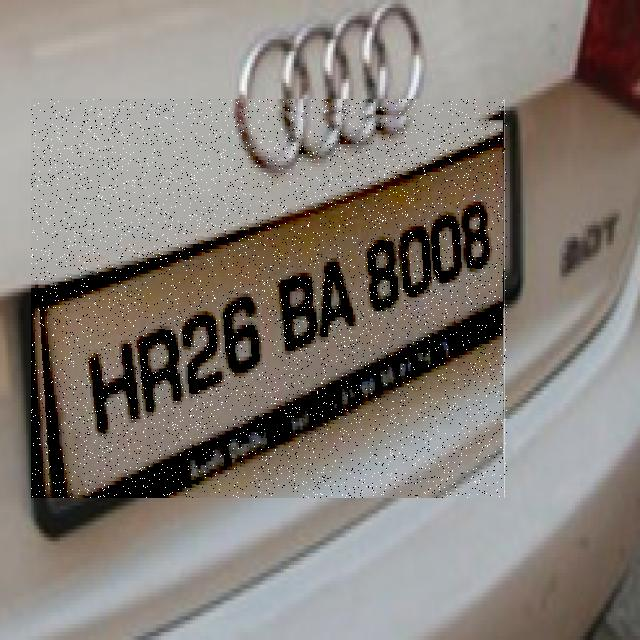Plate: (33, 100, 509, 499)
